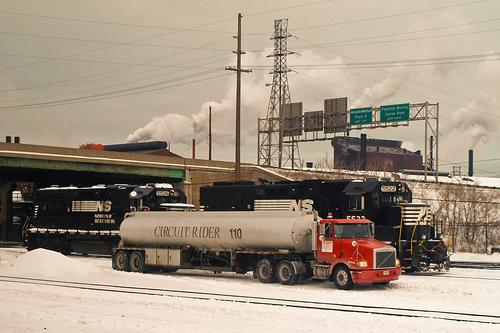Train: (202, 178, 452, 274)
